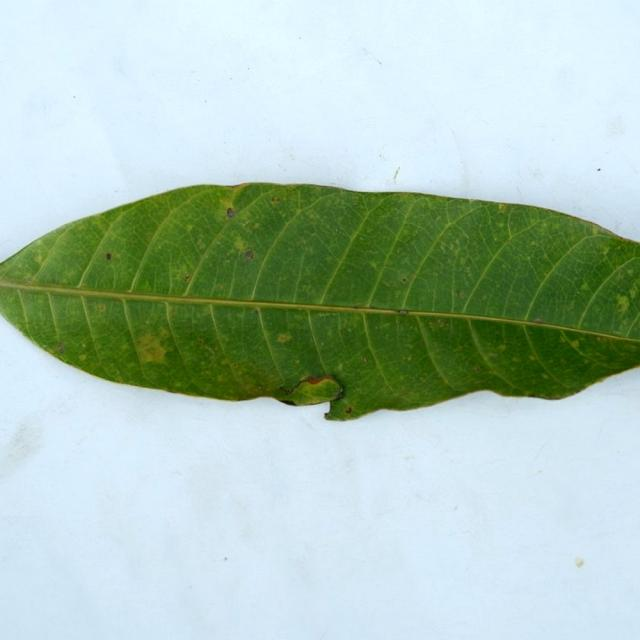Mango: (0, 184, 639, 420)
Powdery_Mildew: (422, 228, 475, 274), (134, 331, 171, 364), (615, 293, 631, 315), (425, 317, 452, 329), (234, 231, 248, 253), (202, 344, 219, 357), (616, 267, 629, 281), (276, 333, 292, 343), (301, 284, 315, 295), (602, 246, 613, 258), (580, 281, 590, 291), (55, 343, 65, 353), (383, 280, 395, 288), (570, 339, 580, 348), (34, 254, 44, 263), (497, 203, 506, 213), (197, 240, 206, 250), (185, 224, 194, 233), (591, 224, 600, 233), (448, 242, 457, 251), (497, 344, 507, 352), (218, 374, 228, 382), (97, 304, 106, 312), (271, 196, 280, 204), (215, 283, 224, 291), (458, 290, 466, 298), (78, 354, 87, 361), (220, 358, 229, 365), (252, 222, 260, 229), (497, 222, 505, 229), (370, 261, 378, 268), (197, 337, 205, 344), (231, 362, 239, 369), (244, 219, 252, 226), (397, 318, 406, 324), (401, 277, 408, 284), (184, 274, 190, 282)
